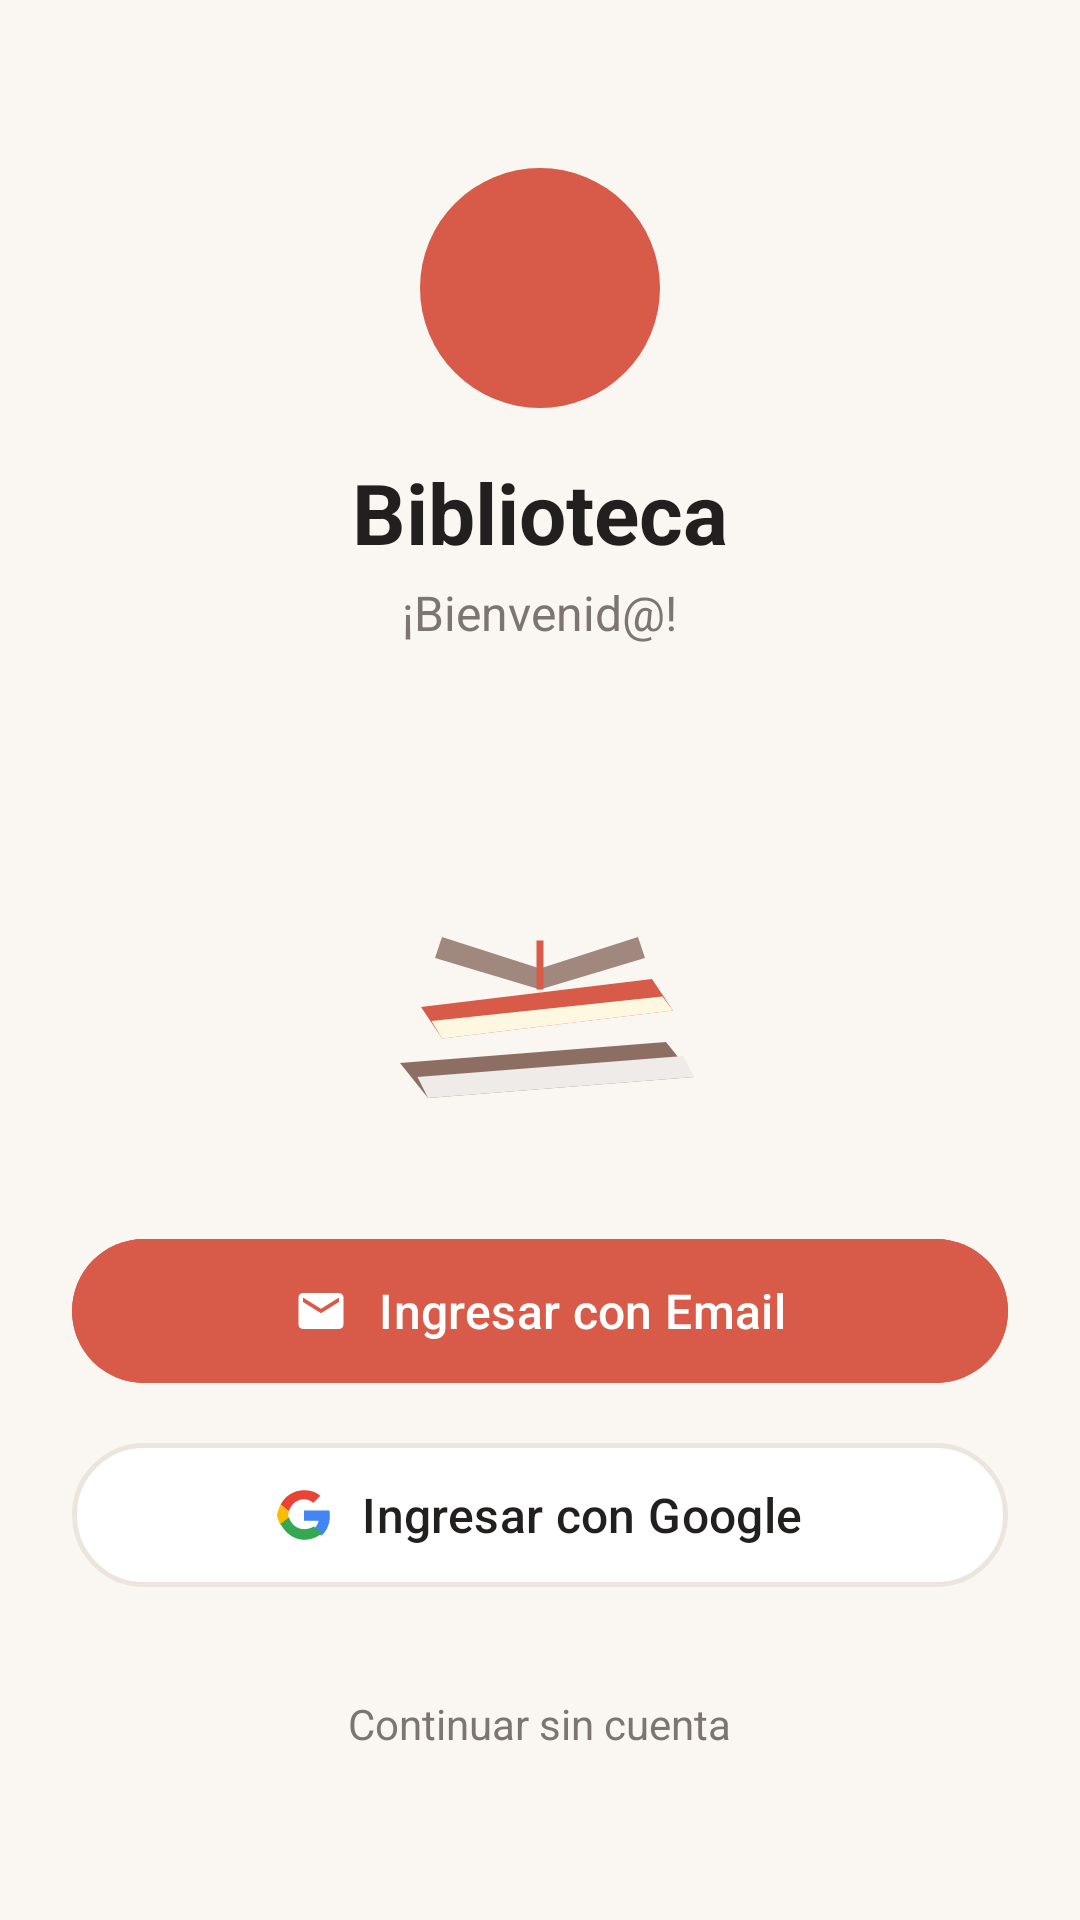

Screen size 1080 x 1920. Icon name, then its box in pixels as box=[x1, y1, x2, y2]:
libros ilustracion: box=[400, 937, 694, 1098]
